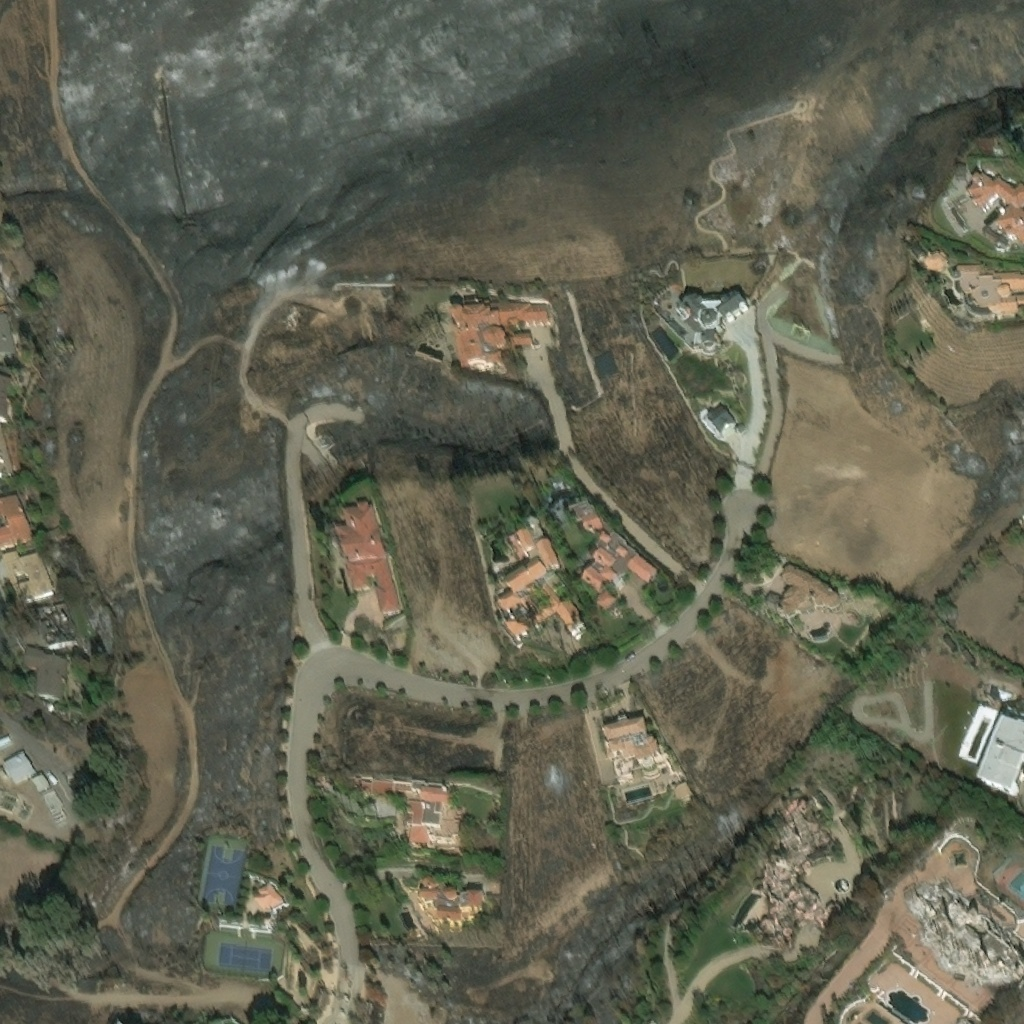0 no-damage: (493, 554, 584, 642), (448, 292, 545, 373), (955, 700, 1023, 797), (337, 503, 397, 607), (965, 168, 1023, 248), (677, 288, 748, 352), (952, 261, 1023, 320), (776, 561, 845, 612), (602, 714, 663, 767), (0, 543, 53, 601), (21, 643, 68, 696), (0, 483, 31, 544), (578, 543, 616, 590), (29, 769, 61, 807), (252, 881, 285, 917), (1, 747, 35, 780), (566, 499, 602, 529), (354, 777, 413, 794), (705, 401, 735, 433), (504, 524, 533, 556), (408, 800, 427, 845), (624, 550, 654, 578), (978, 679, 1013, 701), (535, 535, 557, 565), (419, 874, 440, 900), (421, 786, 450, 802), (0, 305, 10, 350), (0, 785, 18, 808), (466, 892, 482, 917), (594, 587, 613, 608), (0, 368, 9, 411), (437, 907, 461, 922), (0, 428, 8, 469), (444, 886, 458, 900), (597, 529, 611, 543), (614, 541, 627, 554)
1 minor-damage: (649, 323, 680, 359), (591, 344, 617, 376)
3 destroyed: (753, 787, 844, 943), (907, 874, 1023, 981), (34, 593, 76, 643)
4 un-classified: (975, 135, 991, 153)
